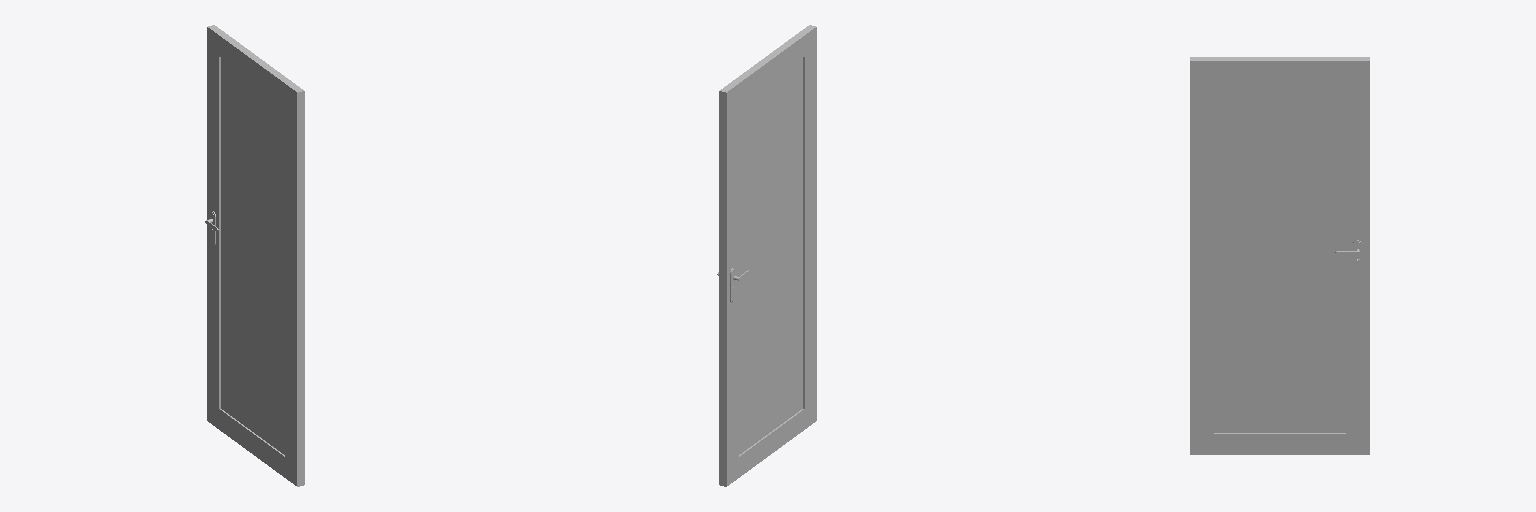
File: puertaBanio.obj
3 views of the same model, side by side, from view 1: azimuth 30°, elevation 25°; view 2: azimuth 150°, elevation 25°; view 3: azimuth 270°, elevation 25° (orthographic).
Visible parts, largest first — view 1: SET_3_CLOSET:uploads_files_[number redacted]_untitled:uploads_files_422615; view 2: SET_3_CLOSET:uploads_files_[number redacted]_untitled:uploads_files_422615; view 3: SET_3_CLOSET:uploads_files_[number redacted]_untitled:uploads_files_422615.
Boxes of the visible parts, box(x1,y1,x2,y2) form: SET_3_CLOSET:uploads_files_[number redacted]_untitled:uploads_files_422615: box(205, 25, 304, 486); SET_3_CLOSET:uploads_files_[number redacted]_untitled:uploads_files_422615: box(717, 25, 816, 486); SET_3_CLOSET:uploads_files_[number redacted]_untitled:uploads_files_422615: box(1190, 57, 1369, 454).
Bounding box in the file's own units: 0.1191 × 2.09 × 0.862.